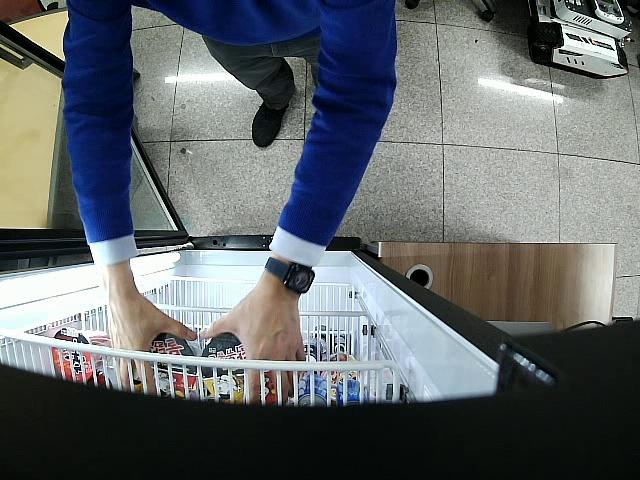00_hand: (200, 297, 305, 404), (104, 285, 197, 395)
07_buldak_L: (202, 332, 277, 403), (149, 332, 198, 399)
